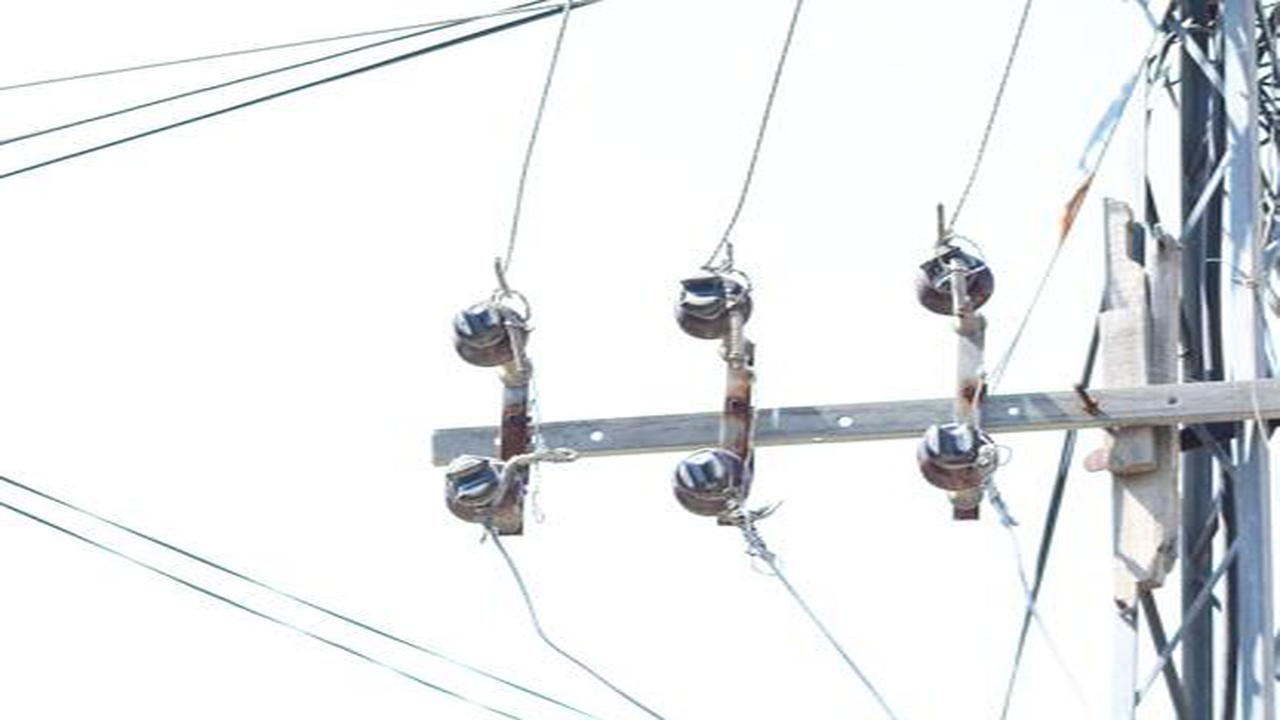insulator_pin: (908, 414, 1002, 500), (668, 265, 759, 347), (665, 445, 756, 522), (911, 243, 1001, 320), (437, 448, 525, 526), (446, 297, 536, 373)
